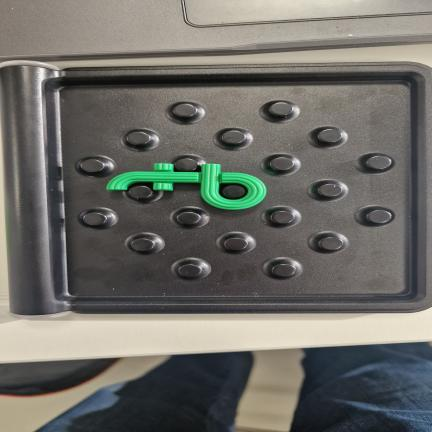D_Green: (107, 164, 266, 209)
board: (0, 60, 432, 317)
hinge: (0, 62, 63, 323)
pin: (366, 155, 392, 170), (317, 128, 342, 143), (367, 209, 392, 224), (173, 103, 197, 118), (269, 102, 293, 117), (222, 130, 246, 145), (319, 236, 343, 251), (126, 131, 151, 145), (80, 159, 105, 173), (318, 183, 343, 197), (222, 185, 247, 199), (128, 185, 153, 199), (82, 212, 107, 226), (270, 157, 294, 171), (177, 211, 201, 225), (270, 210, 294, 224), (224, 237, 248, 251), (131, 238, 155, 252), (272, 263, 296, 277), (178, 264, 202, 277), (176, 158, 199, 171)
